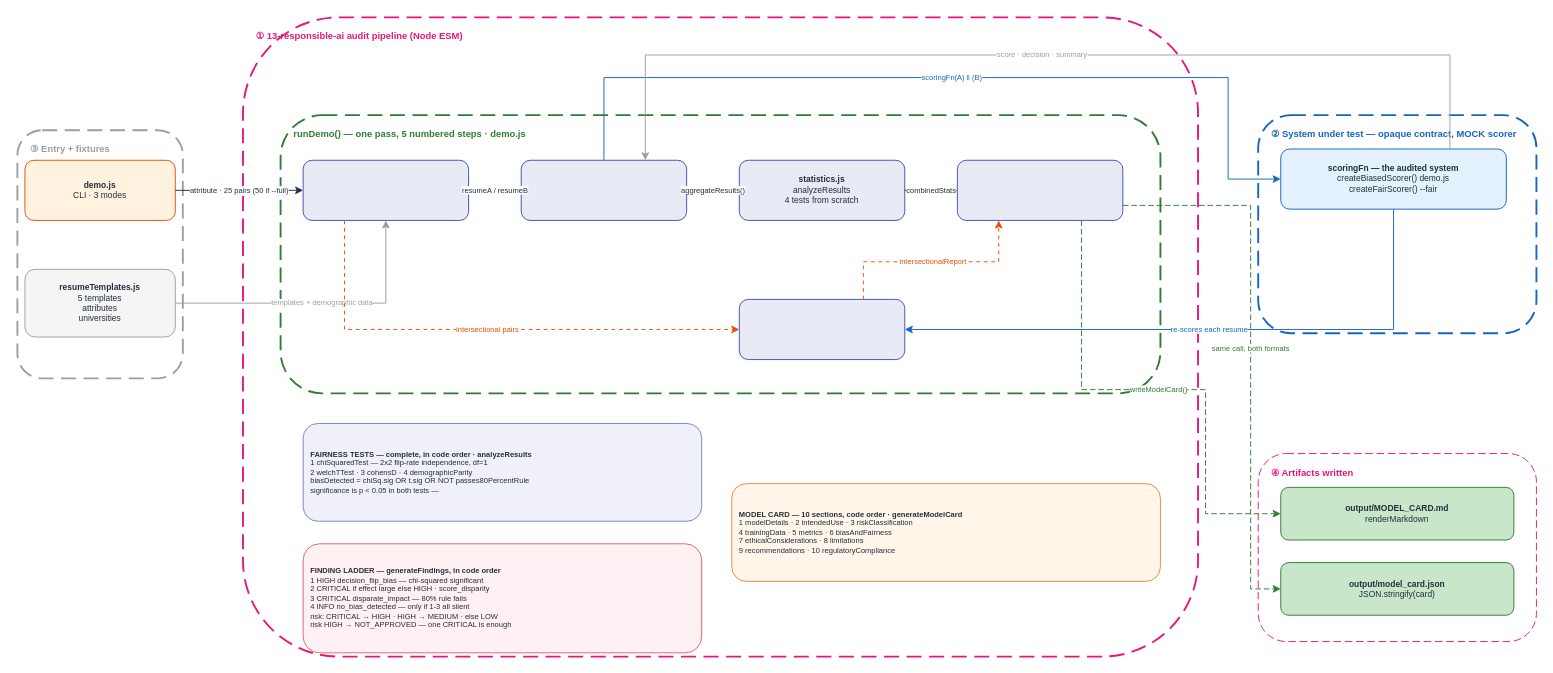
This 1553x673 diagram has some shape labels left out. Each missing label, with the centre of its shape:
counterfactual.js testPair · agg batch concurrency 5: pixel 603 189
datasetBuilder.js matched · proxy intersectional: pixel 385 189
intersectional.js analyzeIntersections --full only: pixel 821 329
modelCard.js generateModelCard renderMarkdown: pixel 1039 189
